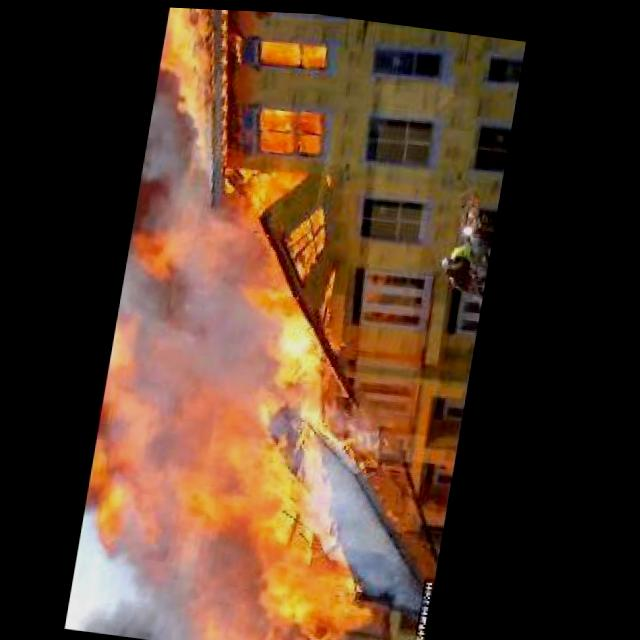Fire: (74, 392, 422, 640), (108, 149, 368, 420), (146, 5, 236, 161), (247, 99, 332, 155), (255, 30, 332, 69)
